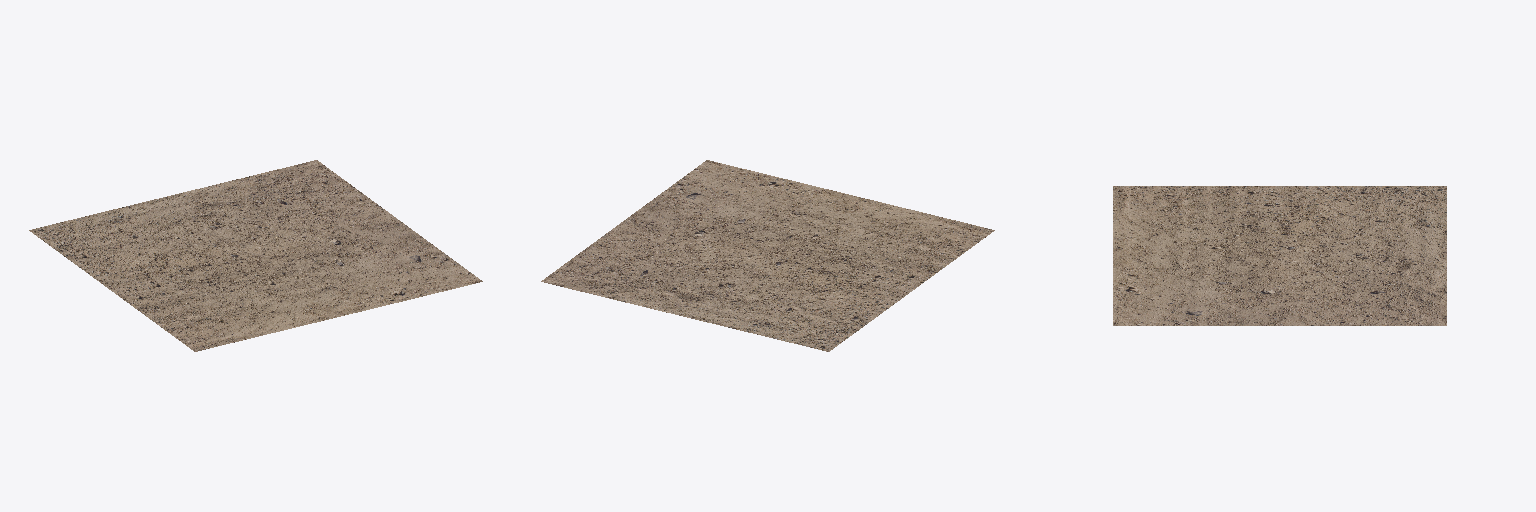
The picture shows the model from 3 angles: view 1: azimuth 30°, elevation 25°; view 2: azimuth 150°, elevation 25°; view 3: azimuth 270°, elevation 25°; orthographic projection.
Visible parts, largest first — view 1: pPlane1; view 2: pPlane1; view 3: pPlane1.
Part boxes in pixels (x1,y1,x2,y2): pPlane1: (29,160,482,351); pPlane1: (541,160,994,351); pPlane1: (1113,186,1446,325).
Size of the model in its own units: 5000 by 0 by 5000.
1 materials, 1 textured.